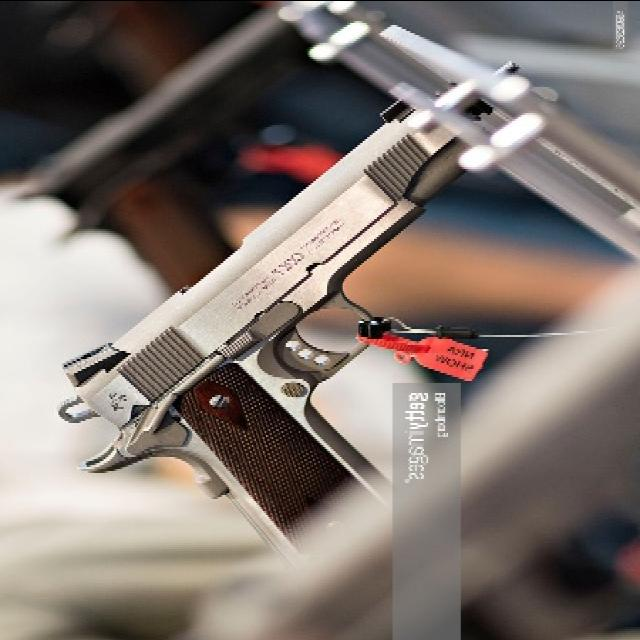handgun: (57, 73, 519, 563)
